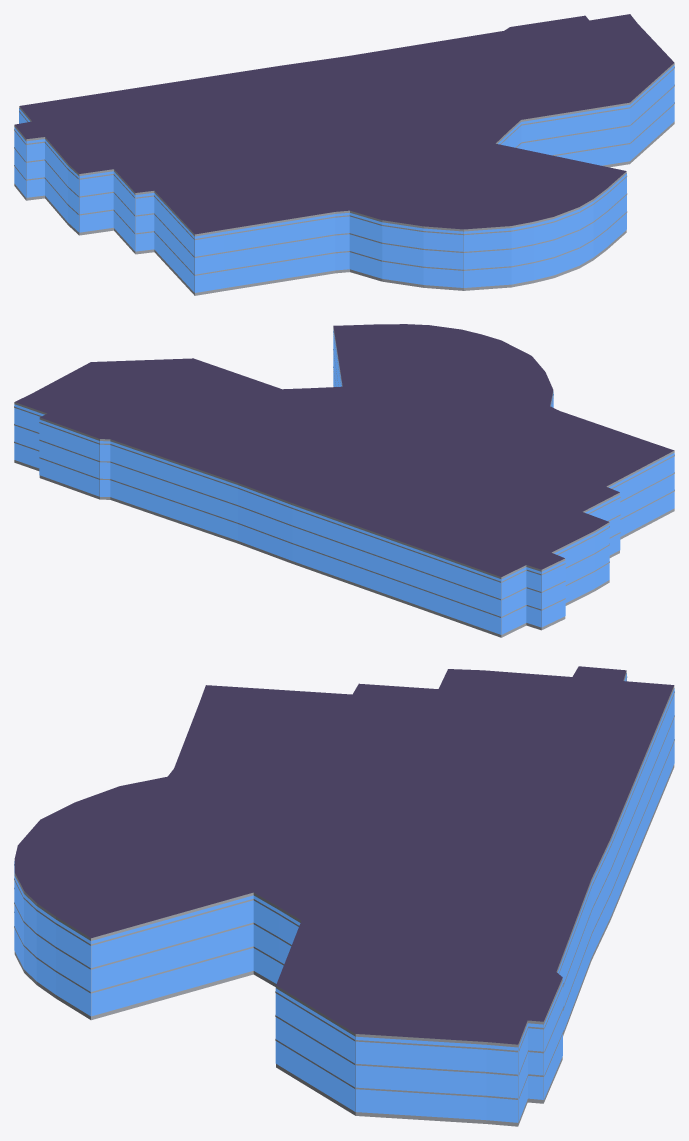
File: core-university-community-centre.glb
The picture shows the model from 3 angles, top to bottom: view 1: azimuth 30°, elevation 25°; view 2: azimuth 150°, elevation 25°; view 3: azimuth 270°, elevation 25°; orthographic projection. The views are drawn at different scales.
Parts seen in each view (by area): view 1: campus/core-university-community-centre-0; view 2: campus/core-university-community-centre-0; view 3: campus/core-university-community-centre-0.
Part boxes in pixels (x1=…): campus/core-university-community-centre-0: x1=14, y1=14, x2=674, y2=295; campus/core-university-community-centre-0: x1=14, y1=324, x2=674, y2=637; campus/core-university-community-centre-0: x1=14, y1=666, x2=674, y2=1126.
Bounding box in the file's own units: 123 × 12.4 × 90.57.
